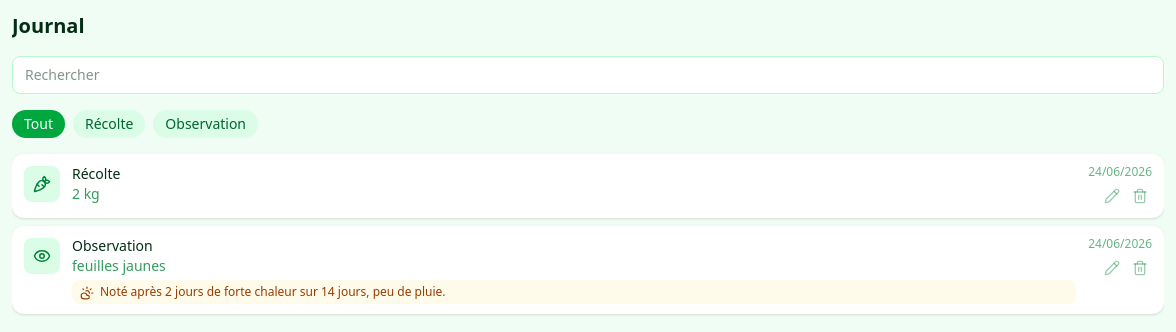
Scenario: JournalPage › la recherche est insensible aux accents via le libellé de type
Expected: the text "2 kg" is shown, [72, 184, 100, 203]
Type "recolte" into the search field with placeholder "Rechercher" at (588, 75), box [12, 56, 1164, 94]
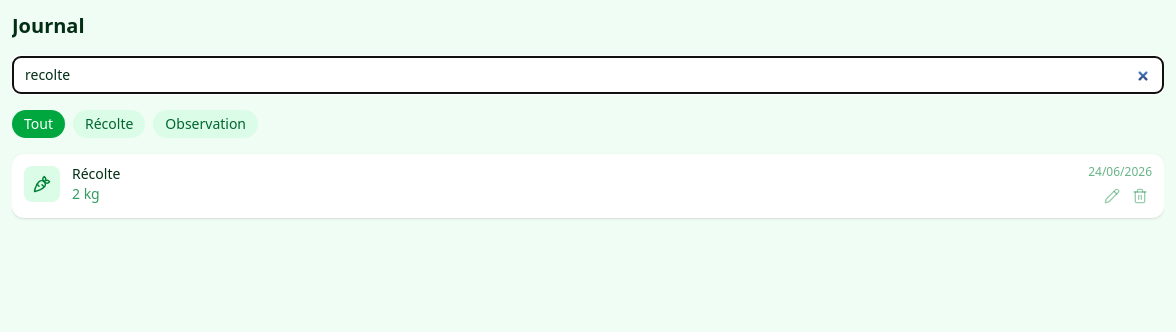
Expected: the text "2 kg" is shown, [72, 184, 100, 203]
Result: the text "feuilles jaunes" is gone
